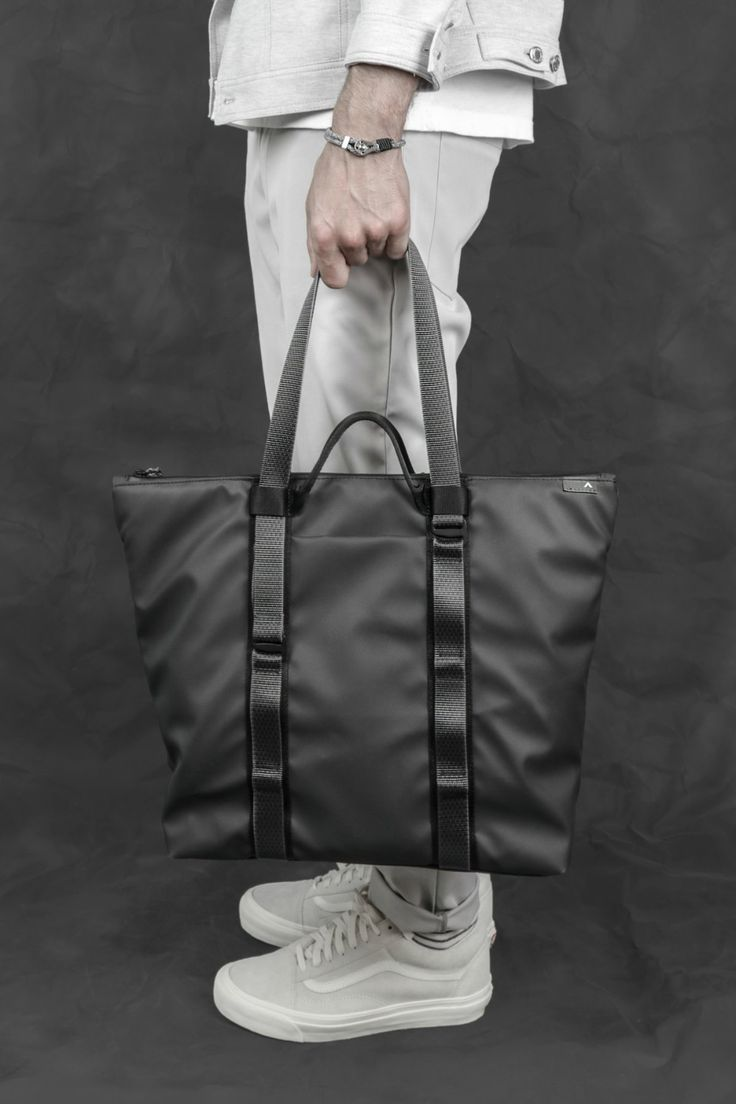nylon: (111, 238, 619, 879)
